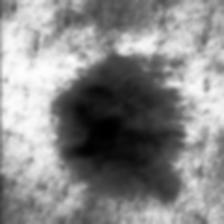Potentially Malignant Skin Tumors: (62, 54, 182, 198)
